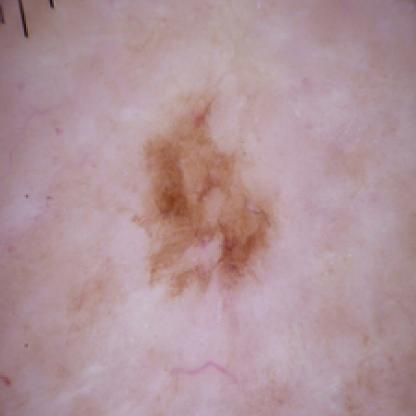Skin_Cancer-Malignant: (129, 91, 276, 300)
